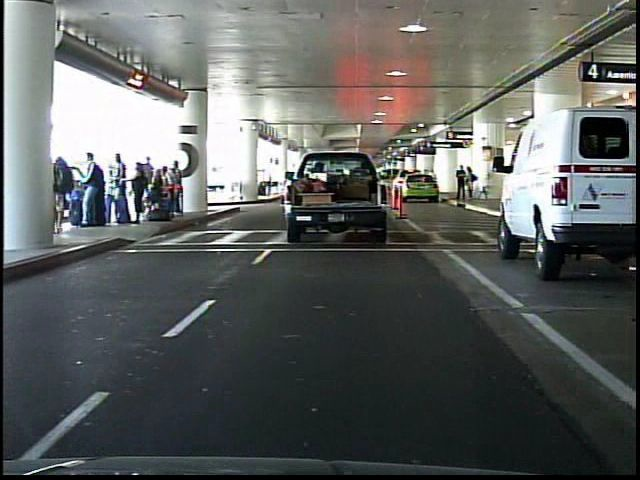person: (465, 165, 478, 203), (454, 165, 467, 202)
